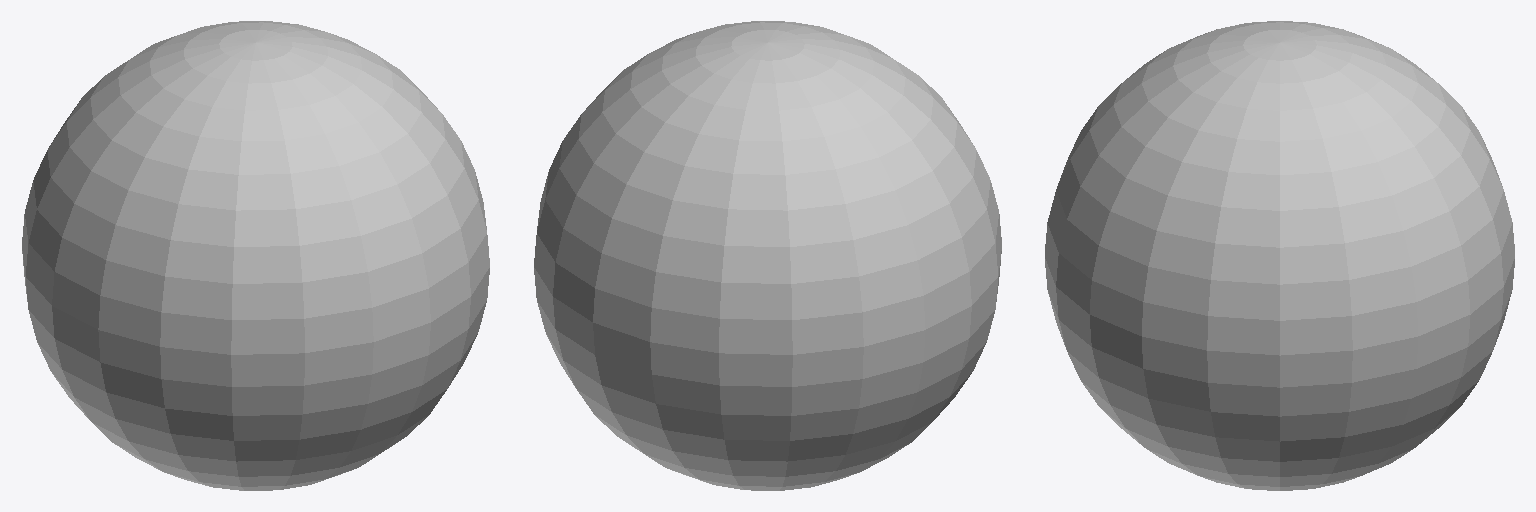
File: WheelB.obj
3 renders of one model, left to right at view 1: azimuth 30°, elevation 25°; view 2: azimuth 150°, elevation 25°; view 3: azimuth 270°, elevation 25°, orthographic.
Size of the model in its own units: 1.4 by 1.4 by 1.4.